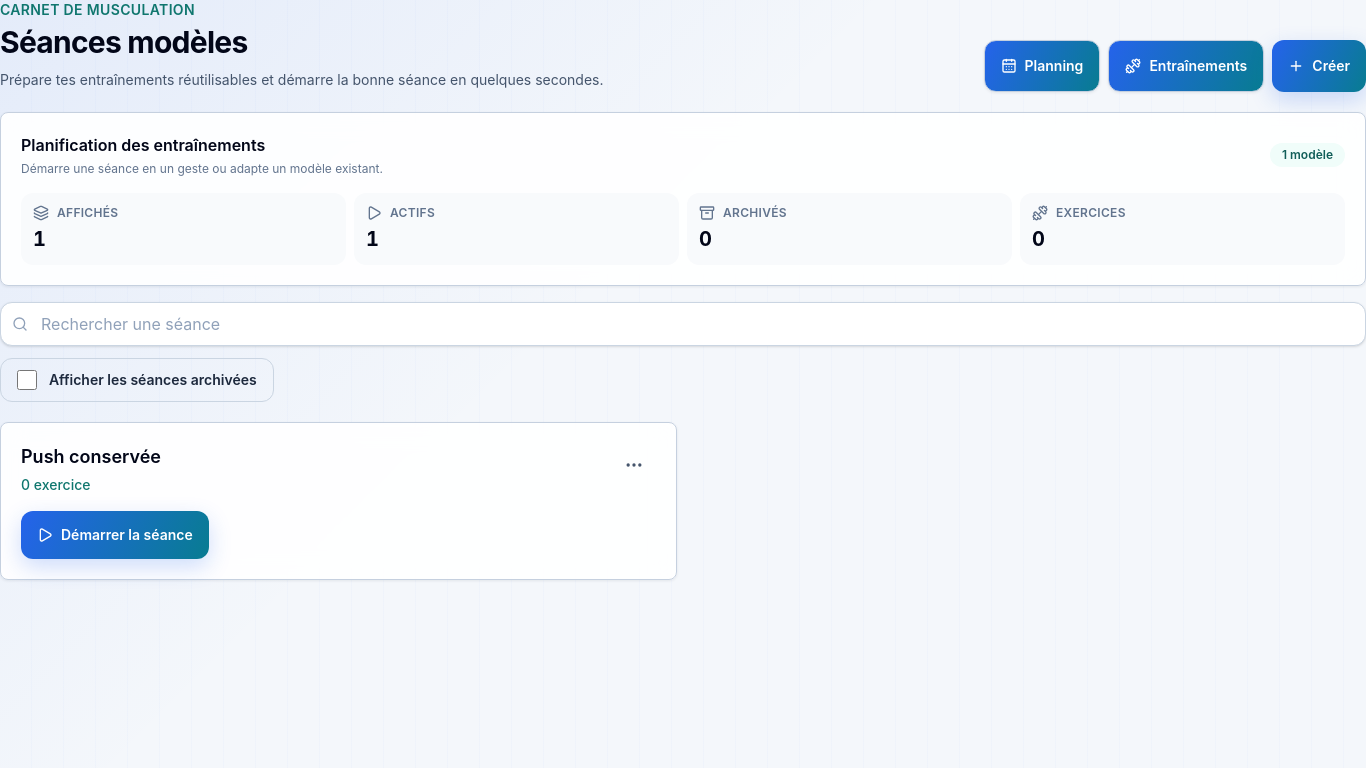
Scenario: WorkoutTemplatesPage › garde une erreur locale unique et le payload lorsque l’archivage échoue
Click the button named "Actions pour Push conservée" at (634, 465), box [612, 443, 656, 487]
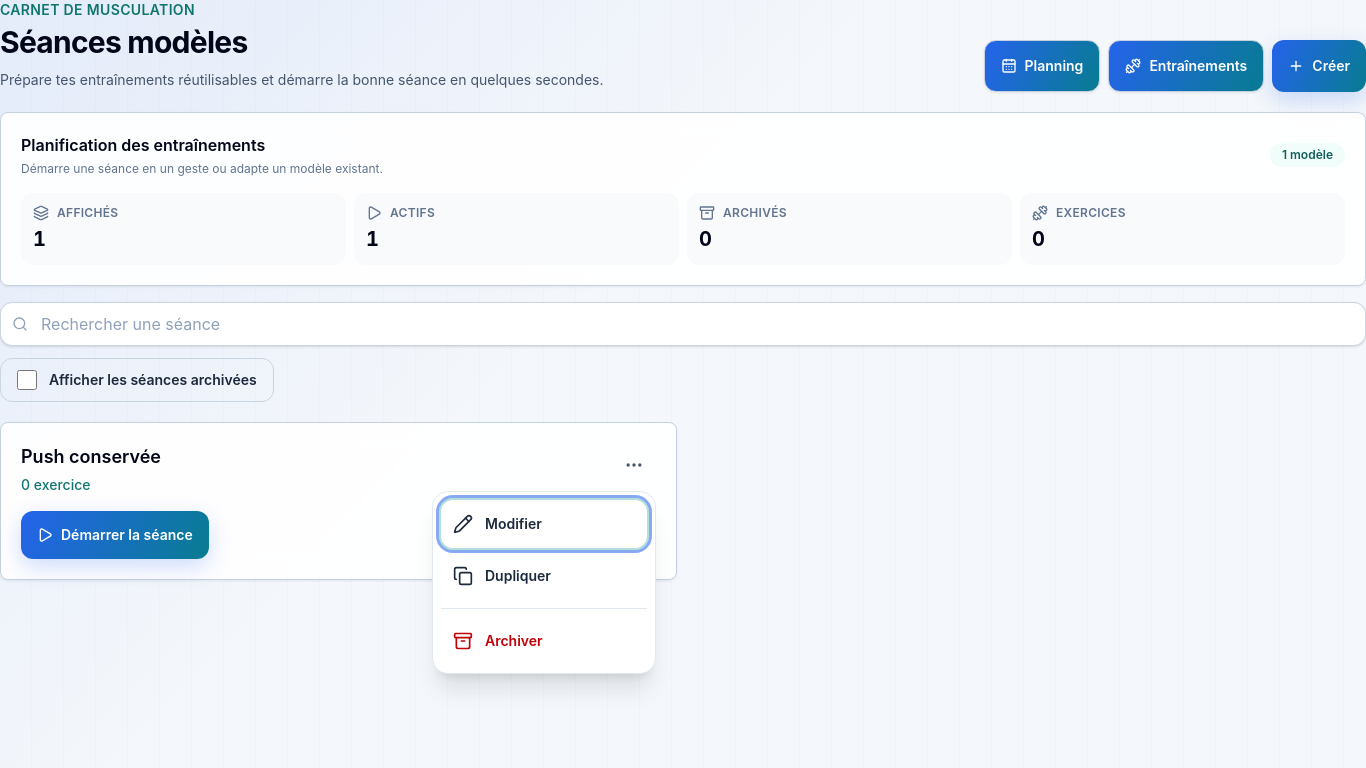
Click the menu item "Archiver" at (544, 641), box [441, 617, 647, 665]
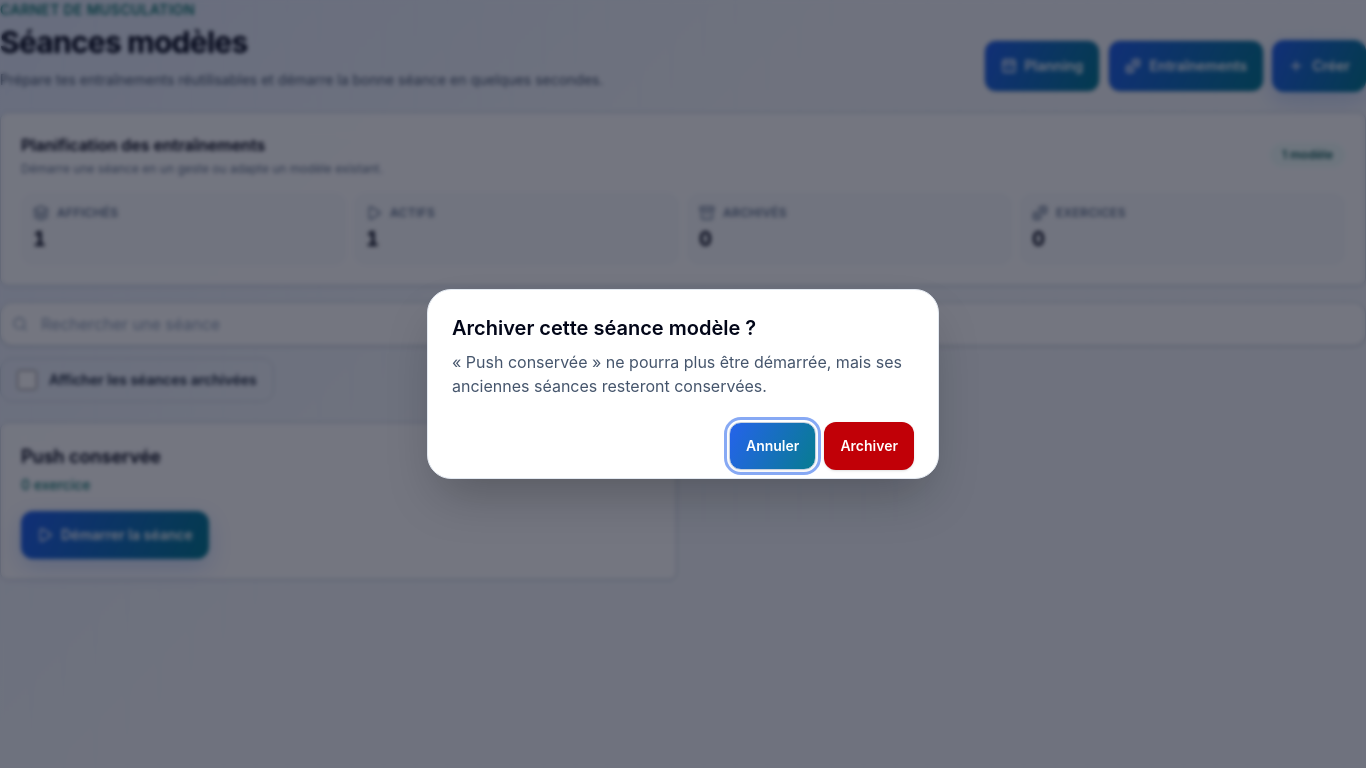
Click the button "Archiver" at (869, 446), box [824, 422, 914, 470]
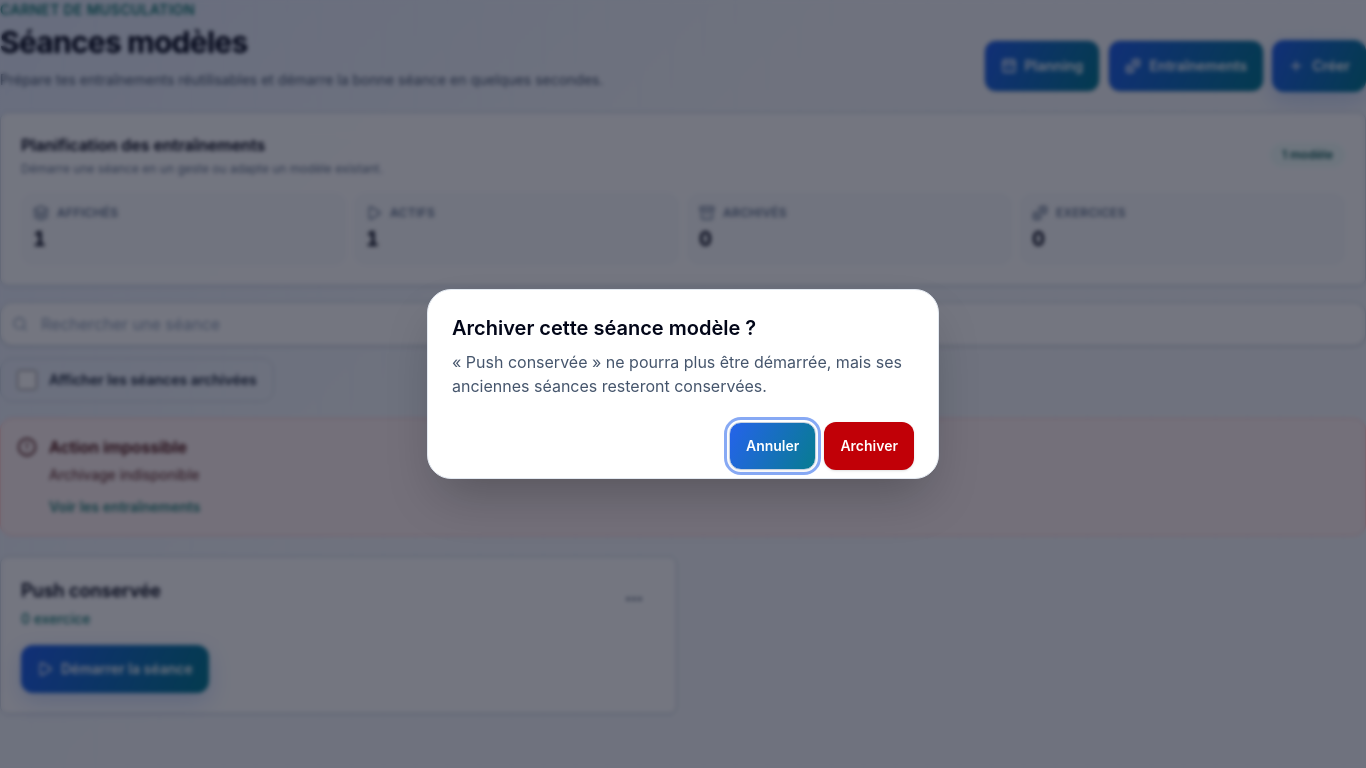
Check: the text "Archivage indisponible" is shown, box [49, 463, 200, 487]
Check: the number of messages is 1, box [0, 418, 1365, 536]
